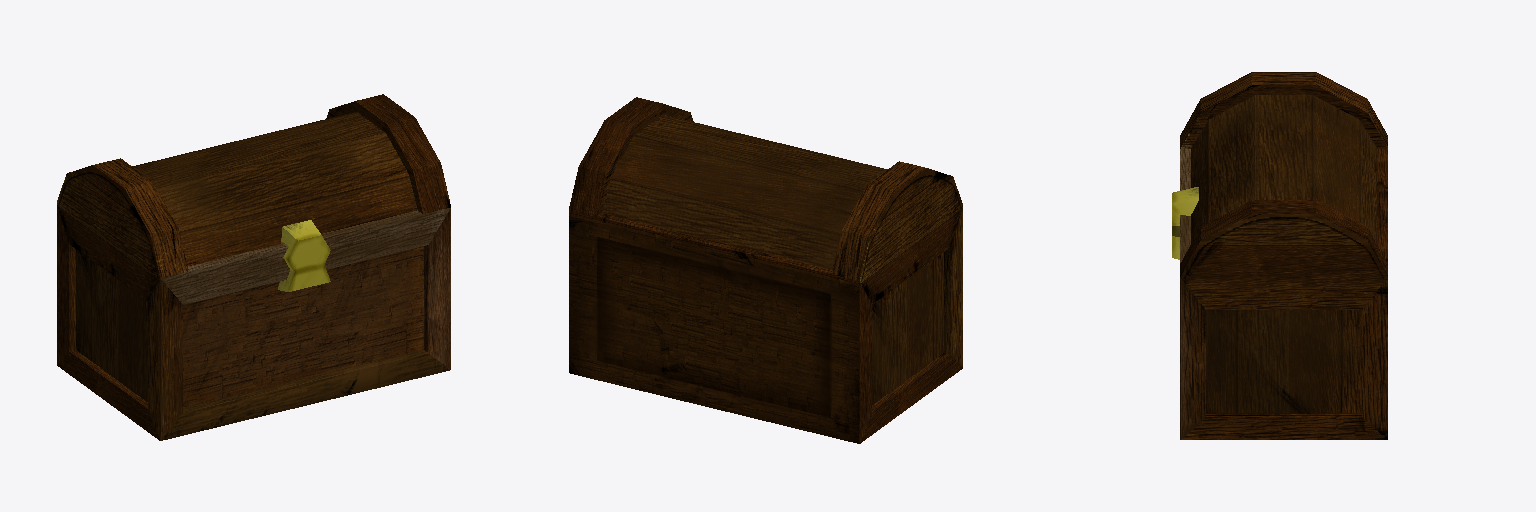
3 views of the same model, side by side, from view 1: azimuth 30°, elevation 25°; view 2: azimuth 150°, elevation 25°; view 3: azimuth 270°, elevation 25° (orthographic).
Parts seen in each view (by area): view 1: polySurface14; view 2: polySurface14; view 3: polySurface14.
Boxes of the visible parts, box(x1,y1,x2,y2) form: polySurface14: box(57, 94, 450, 440); polySurface14: box(569, 97, 962, 443); polySurface14: box(1172, 72, 1387, 439).
Bounding box in the file's own units: 1.99 × 1.48 × 1.27.
Materials: 1 (1 with a texture image).